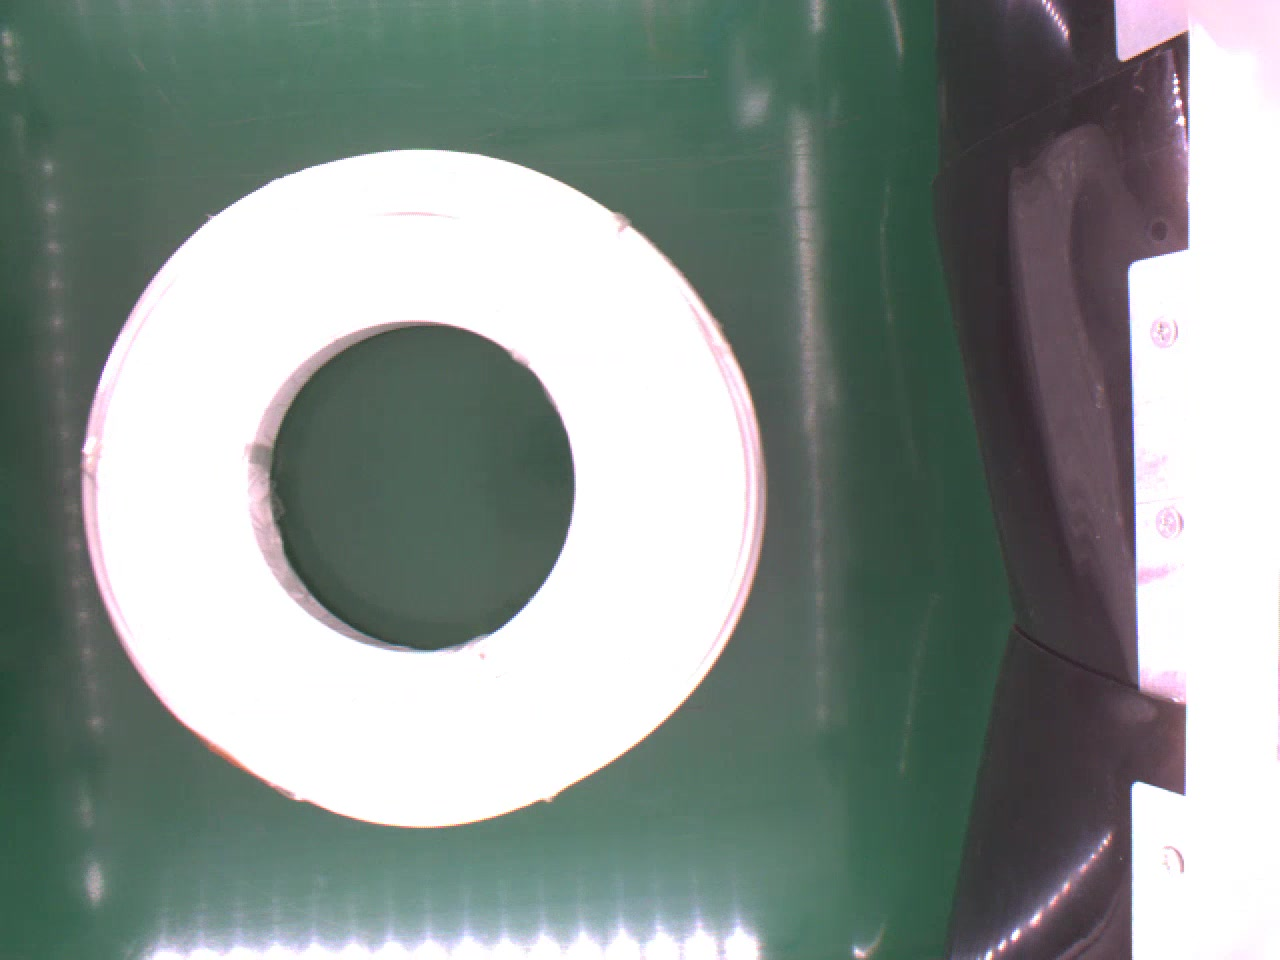white: (70, 146, 770, 833)
